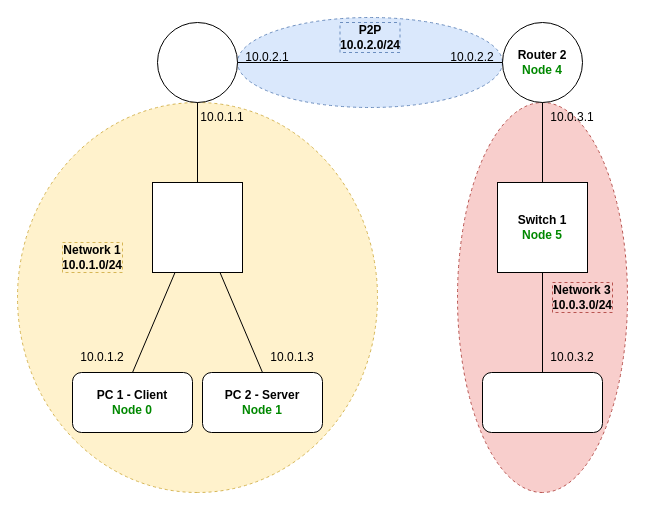
This 645x510 diagram has some shape labels left out. The shapes that lost their labels are listed below. From the top down, each one's centre as x and y in pixels, then its label:
pixel 197 62: Router 1 Node 3
pixel 197 227: Switch 1 Node 2
pixel 542 402: PC3 - Client Node 6
